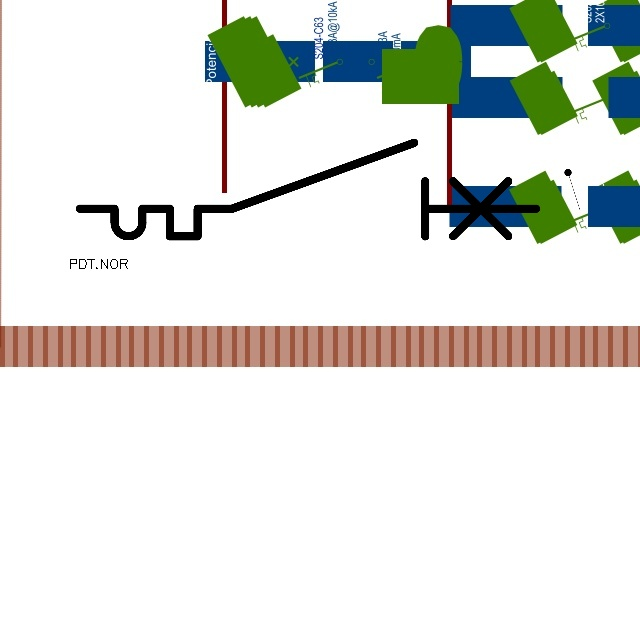interruptor_termomagnetico: (68, 131, 548, 248)
